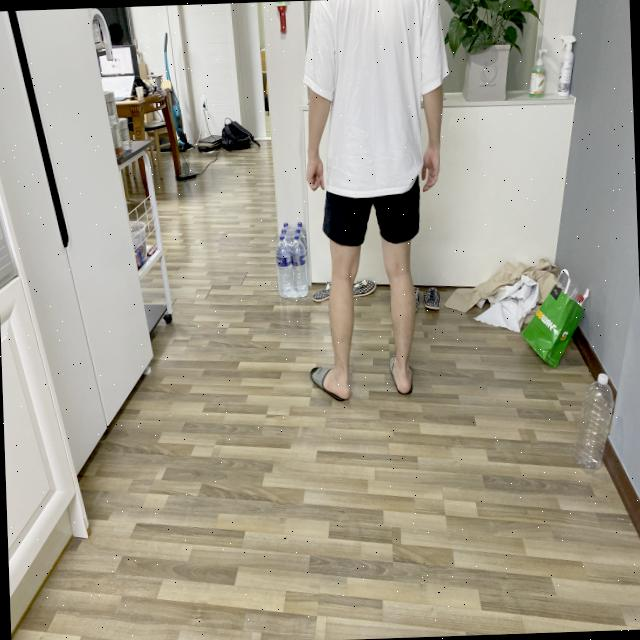no-boots: (298, 354, 358, 417), (380, 356, 424, 400)
